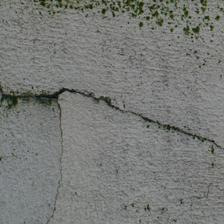Crack: (72, 0, 146, 89), (182, 0, 224, 78)
